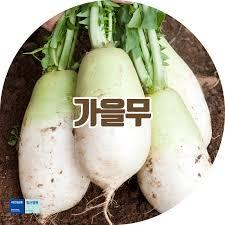radish: (26, 15, 53, 77), (7, 25, 32, 79), (46, 30, 76, 75)
